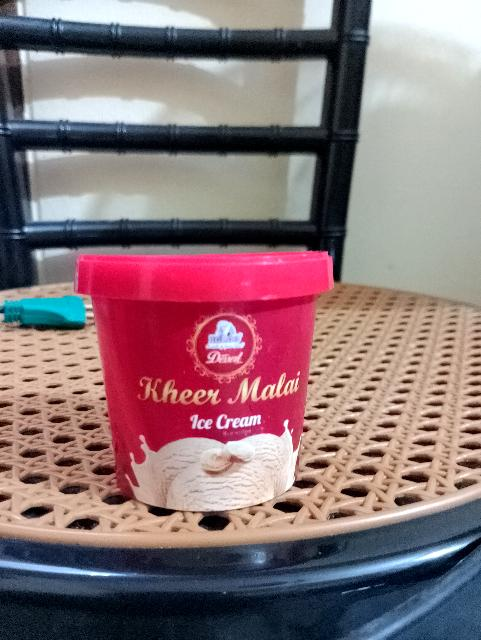hardplastic: (65, 236, 331, 511)
